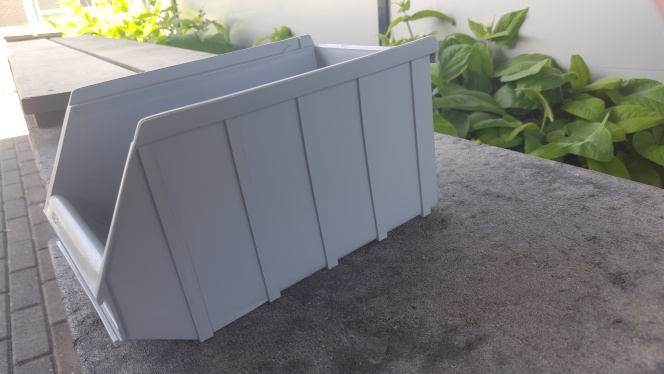tray_right: (94, 34, 444, 344)
